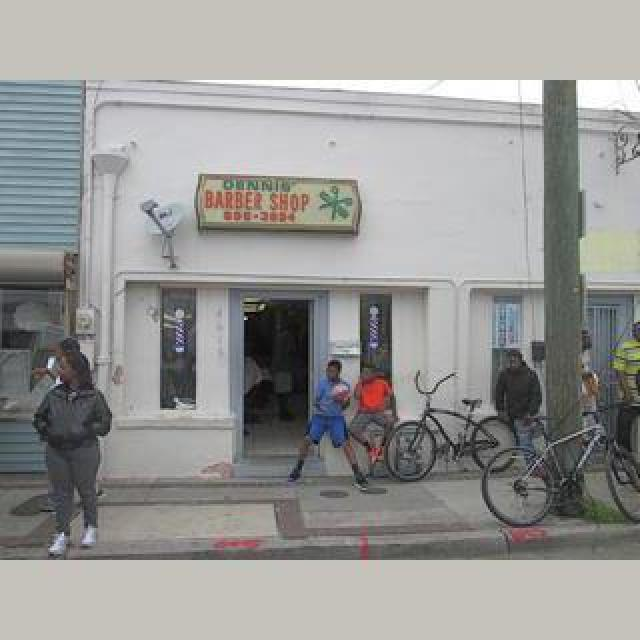MC-Bike: (34, 348, 112, 552), (286, 356, 366, 484), (494, 348, 544, 468), (346, 370, 396, 482)
Person: (482, 402, 640, 528), (388, 368, 514, 482)
